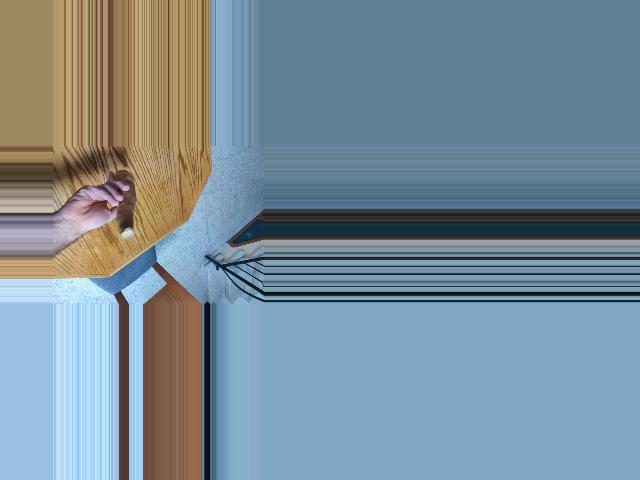sweet_potato: (108, 169, 136, 239)
